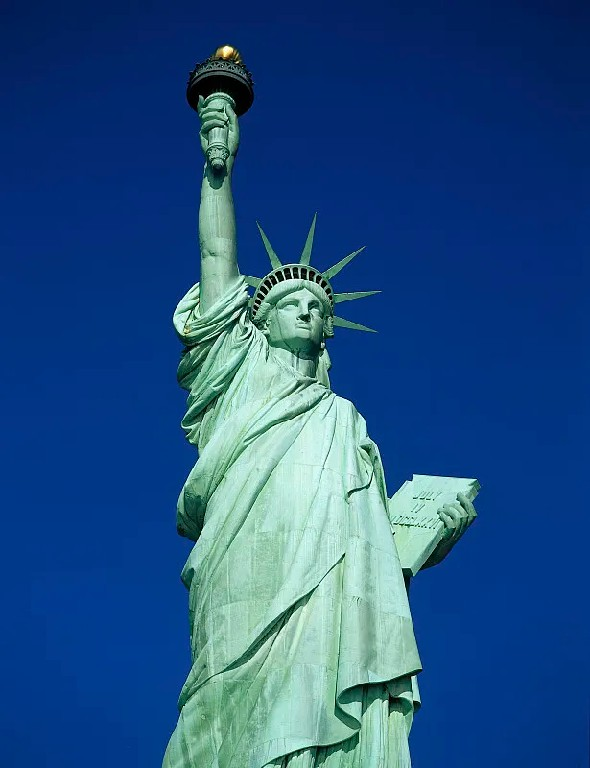SL: (161, 43, 482, 768)
